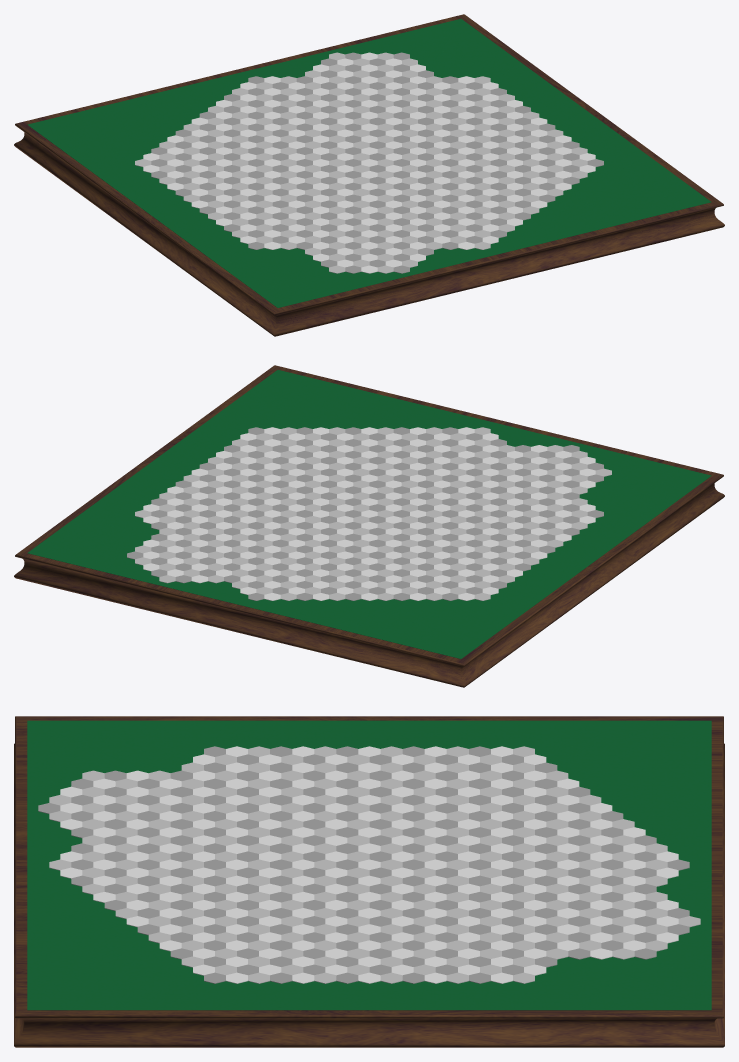
Rendered from Board.glb.
3 renders of one model, top to bottom at view 1: azimuth 30°, elevation 25°; view 2: azimuth 150°, elevation 25°; view 3: azimuth 270°, elevation 25°, orthographic. The views are drawn at different scales.
Visible parts, largest first — view 1: Carpet, Black, Grey, White, Path, Wood; view 2: Carpet, Grey, Black, White, Path, Wood; view 3: Carpet, Black, Grey, White, Path, Wood.
Boxes of the visible parts, <box> form: Carpet: <box>27,19,711,307</box>; Black: <box>151,52,603,273</box>; Grey: <box>135,52,587,273</box>; White: <box>143,52,595,273</box>; Path: <box>14,16,724,336</box>; Wood: <box>16,14,722,312</box>; Carpet: <box>27,370,711,658</box>; Grey: <box>135,427,611,600</box>; Black: <box>127,427,603,600</box>; White: <box>143,427,595,600</box>; Path: <box>14,367,724,687</box>; Wood: <box>16,365,722,663</box>; Carpet: <box>27,720,711,1010</box>; Black: <box>38,746,689,983</box>; Grey: <box>49,746,700,983</box>; White: <box>60,746,678,983</box>; Path: <box>14,716,724,1047</box>; Wood: <box>16,716,722,1014</box>.
Size of what is drawn, in the model's own units: 32.2 by 1.68 by 32.2.
Materials: 6 (2 with a texture image).
